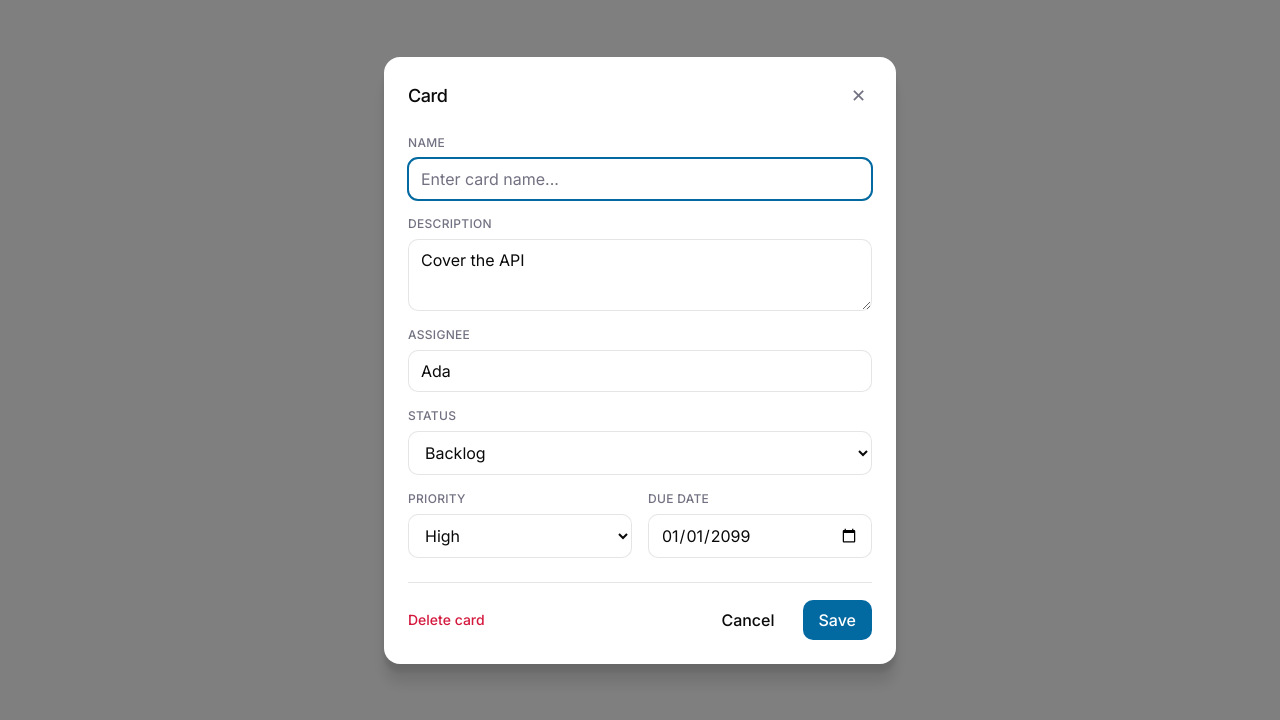
Test case: CardModal audit regressions › marks invalid fields with aria-invalid and aria-describedby
Click the button "Save": (837, 620) [802,600,872,640]
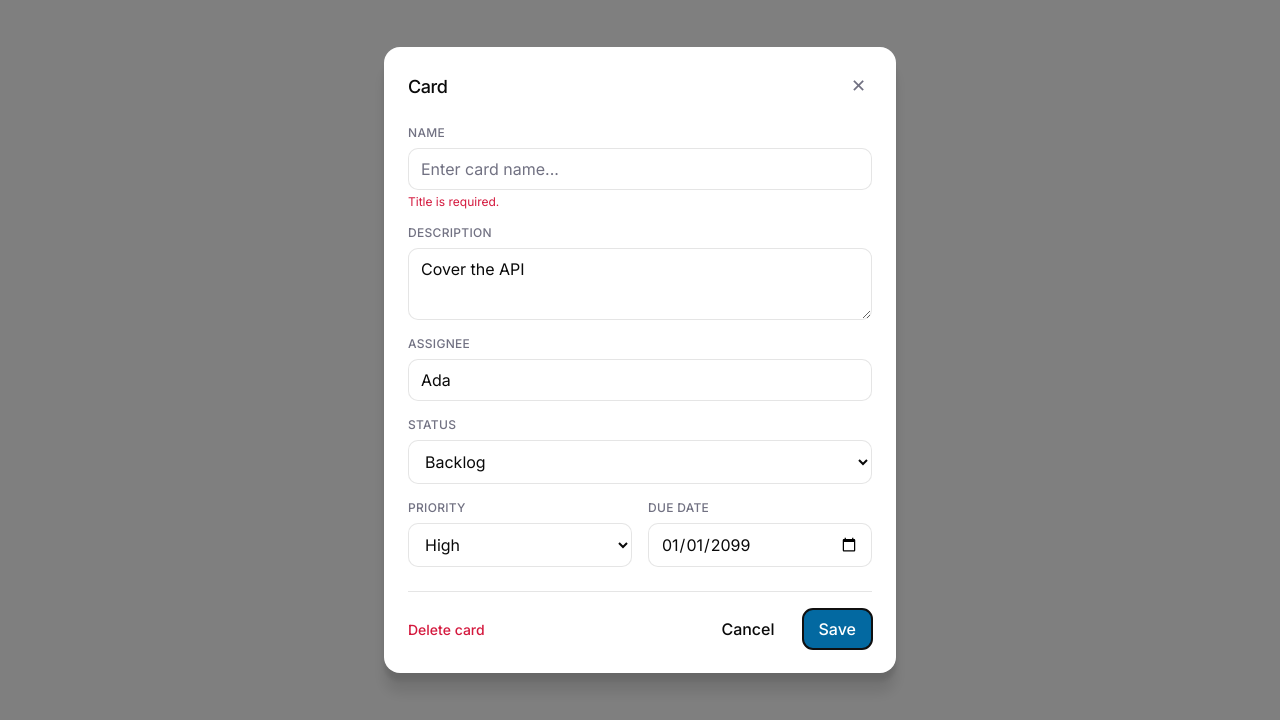
Now the text with id "card-title-error" reads "Title is required.", box [408,194,499,209]
